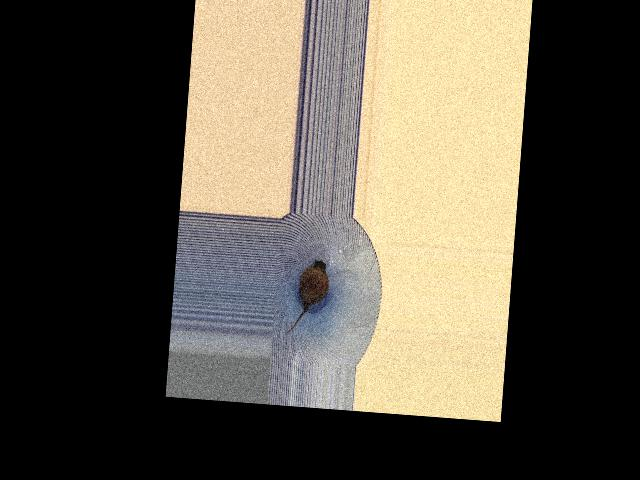beet: (285, 257, 329, 335)
